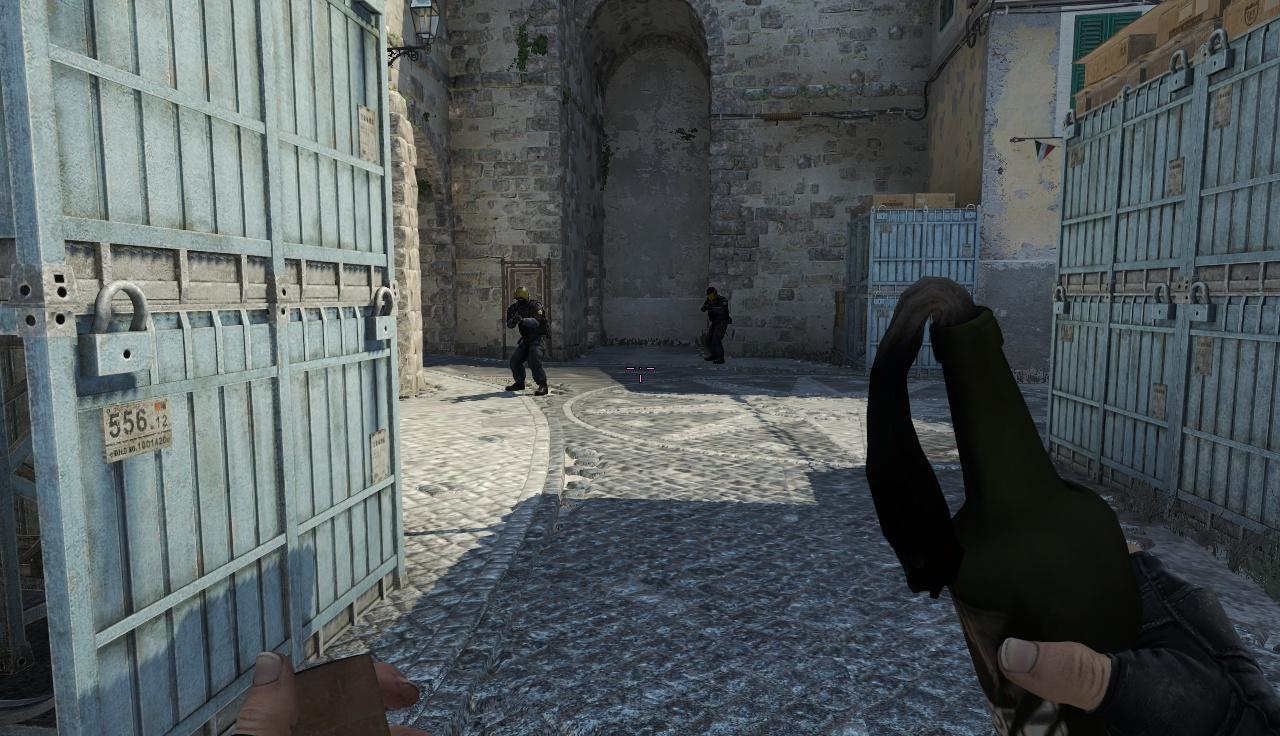ct: (506, 286, 546, 398), (703, 287, 730, 366)
cthead: (513, 286, 531, 305), (707, 287, 719, 301), (707, 287, 719, 300)
